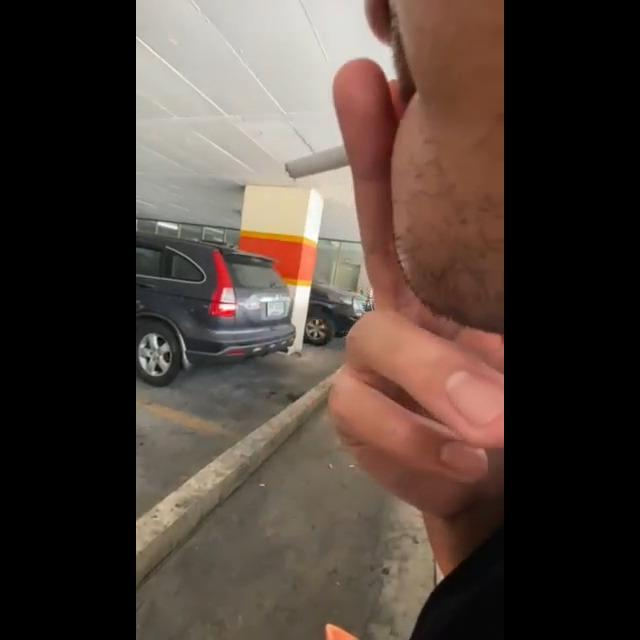rokok: (278, 134, 374, 188)
